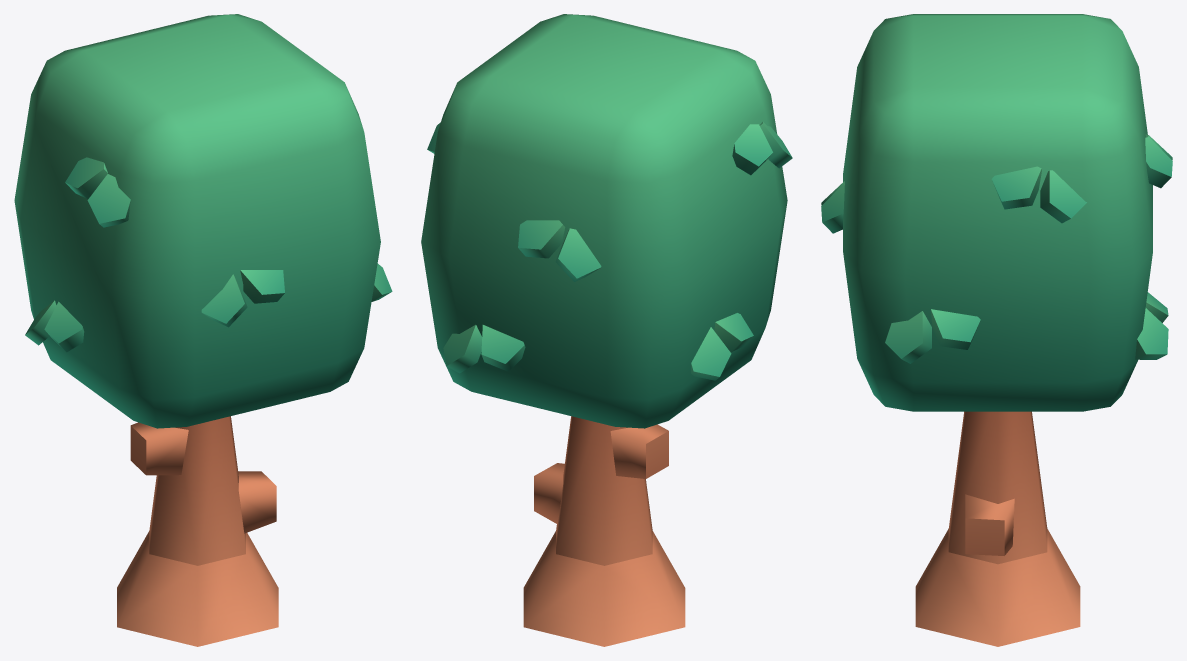
Rendered from tree.fbx.
The picture shows the model from 3 angles, left to right: view 1: azimuth 30°, elevation 25°; view 2: azimuth 150°, elevation 25°; view 3: azimuth 270°, elevation 25°; orthographic projection.
Visible parts, largest first — view 1: tree; view 2: tree; view 3: tree.
Part boxes in pixels (x1,y1,x2,y2): tree: [14, 14, 392, 646]; tree: [421, 14, 792, 646]; tree: [821, 14, 1172, 646].
Bounding box in the file's own units: 109 × 193 × 111.
